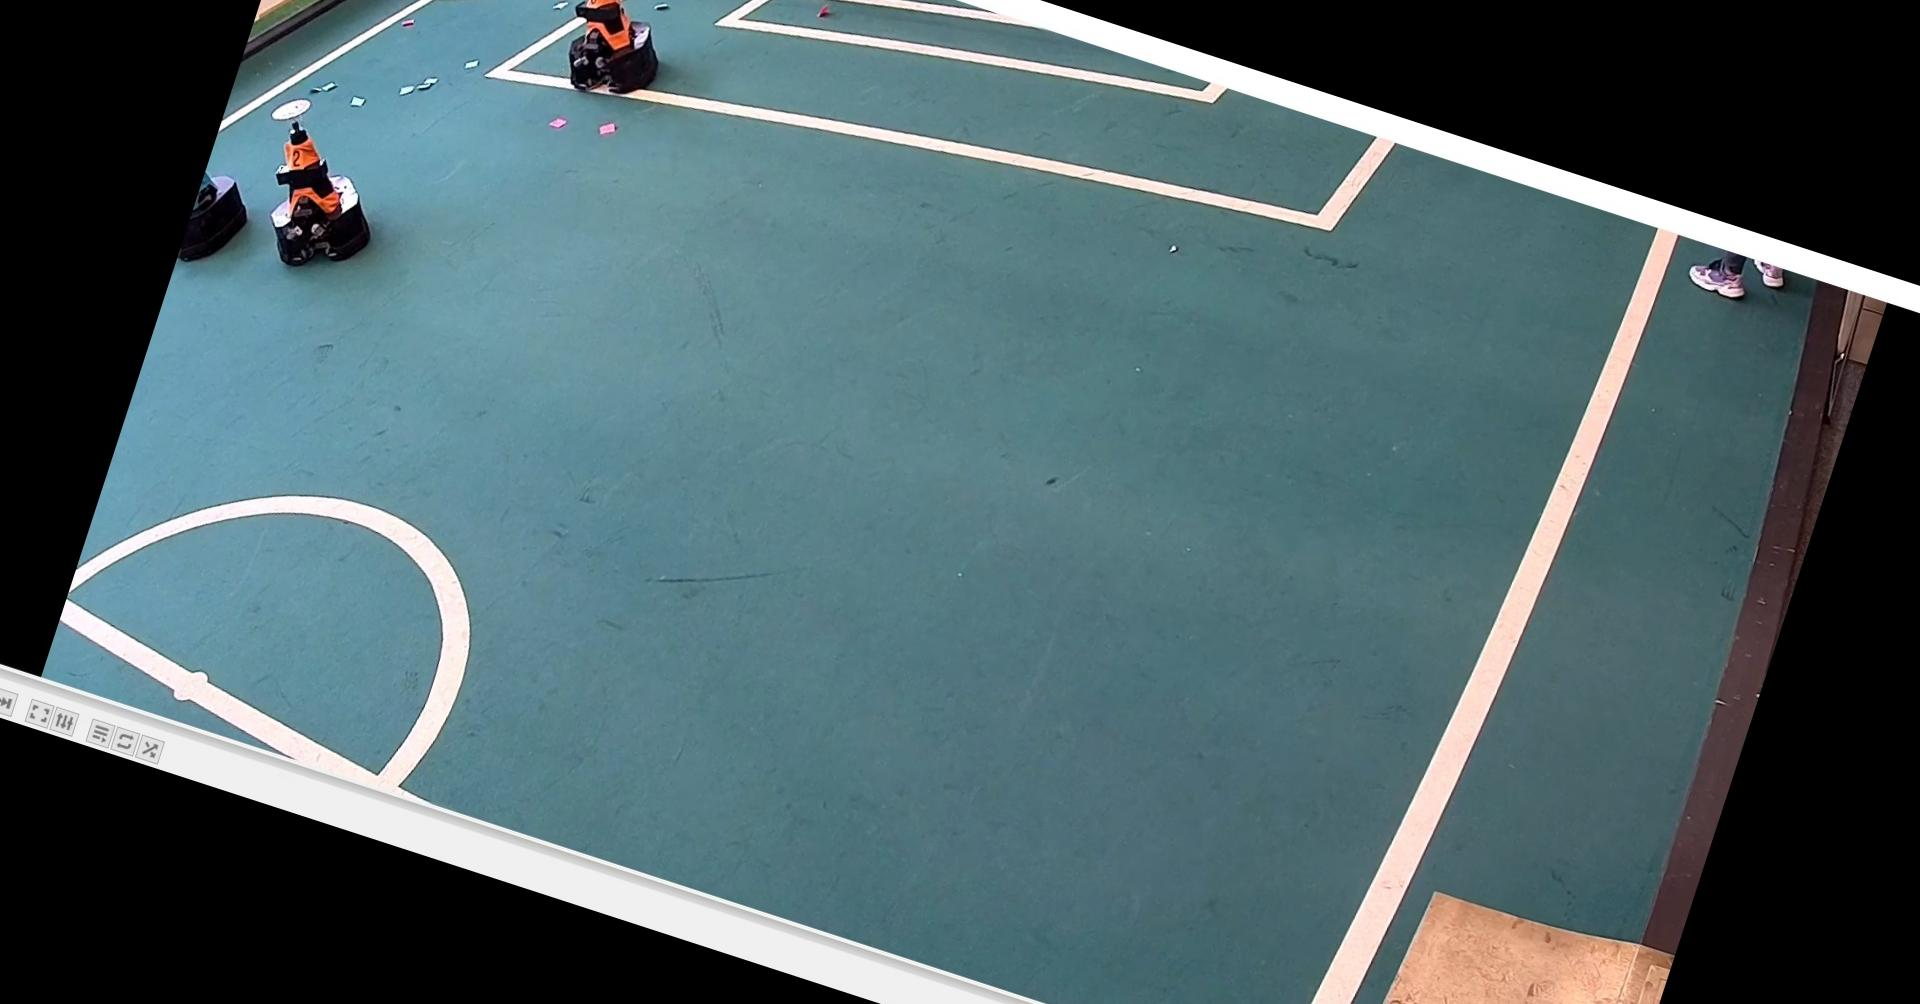Team_Red: (225, 85, 409, 286), (540, 0, 696, 110)
